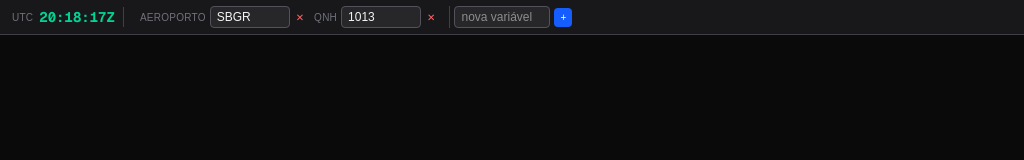
Test: GlobalVariablesBar › shows error when adding duplicate variable
Step 1. Type "aeroporto" into the field named "New variable name" → (502, 17), box [454,6,550,28]
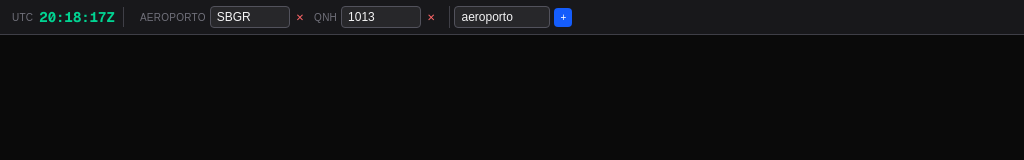
Step 2. Click the button "+" → (563, 17), box [554,8,572,26]
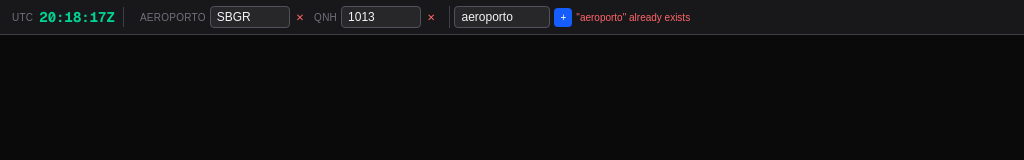
Expected: the text "\"aeroporto\" already exists" is shown, [576,10,690,24]
